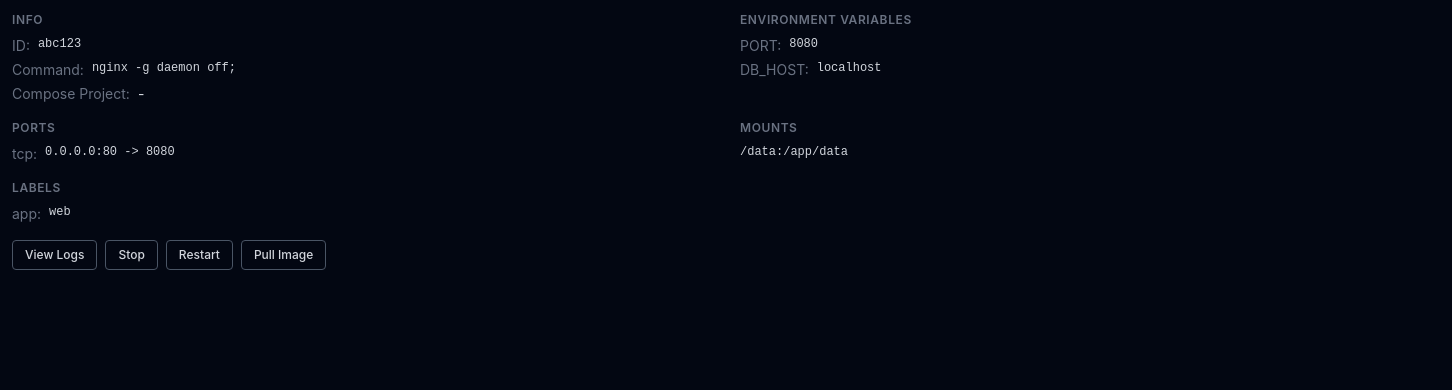
Scenario: ContainerDetail › toggles log view on button click
// Click View Logs
Click the button "View Logs" at (55, 255), box [12,240,98,270]
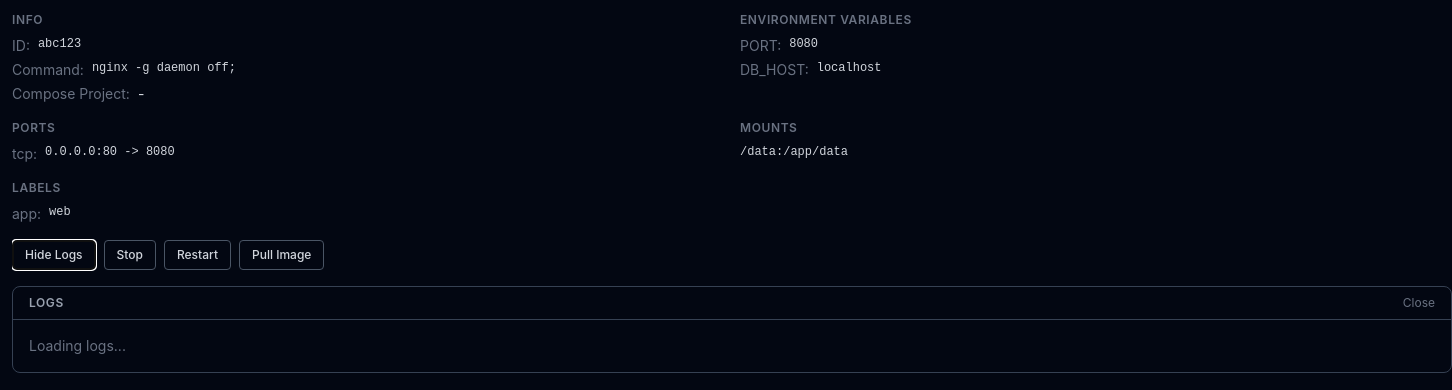
Check: the button "Hide Logs" is shown
Check: the heading "Logs" is shown, box [29,295,64,311]
// Click Hide Logs
Click the button "Hide Logs" at (54, 255), box [12,240,96,270]
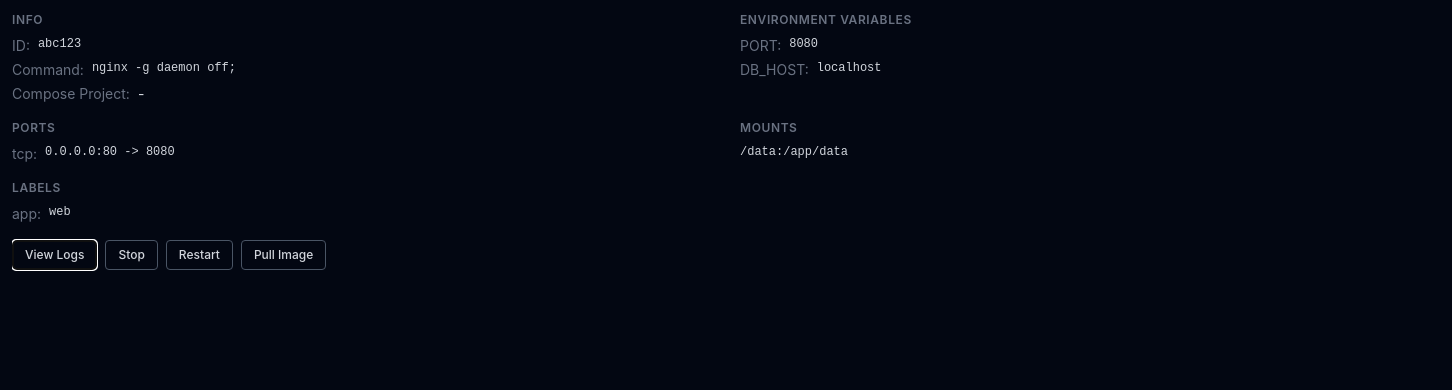
Check: the button "View Logs" is shown, box [12,240,98,270]
